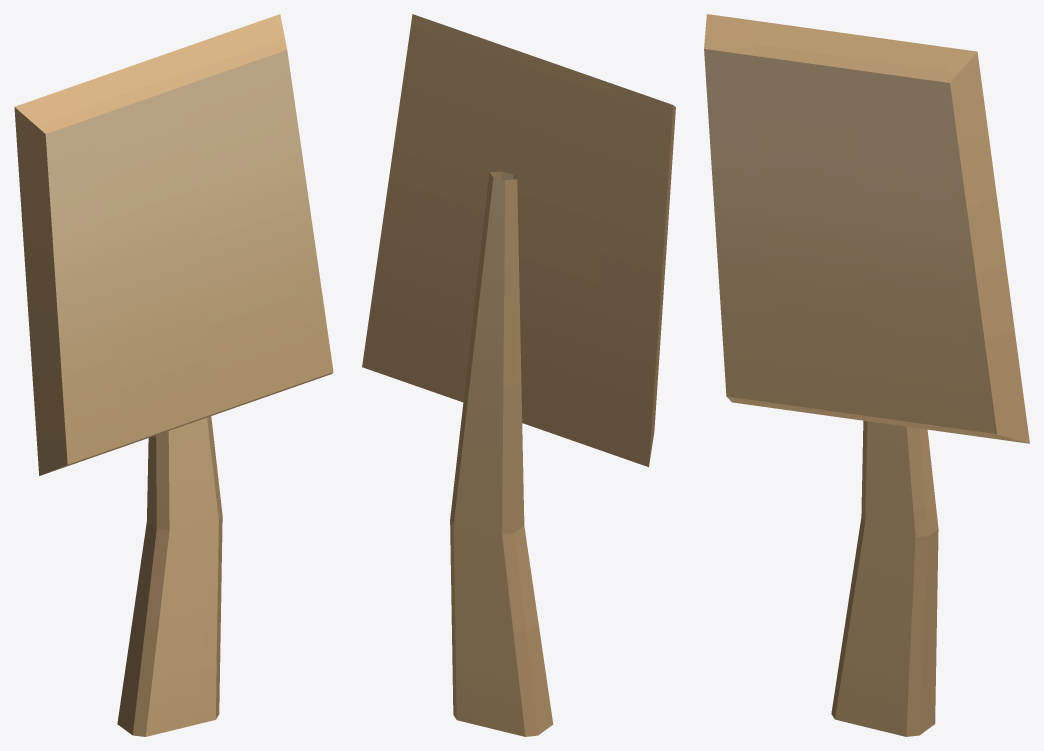
Rendered from Sign.fbx.
3 views of the same model, side by side, from view 1: azimuth 30°, elevation 25°; view 2: azimuth 150°, elevation 25°; view 3: azimuth 330°, elevation 25° (orthographic). The views are drawn at different scales.
Parts seen in each view (by area): view 1: Sign; view 2: Sign; view 3: Sign.
Boxes of the visible parts, box(x1,y1,x2,y2) form: Sign: box(14, 14, 333, 736); Sign: box(362, 14, 675, 736); Sign: box(704, 14, 1029, 736).
Bounding box in the file's own units: 0.6121 × 1.27 × 0.1307.
